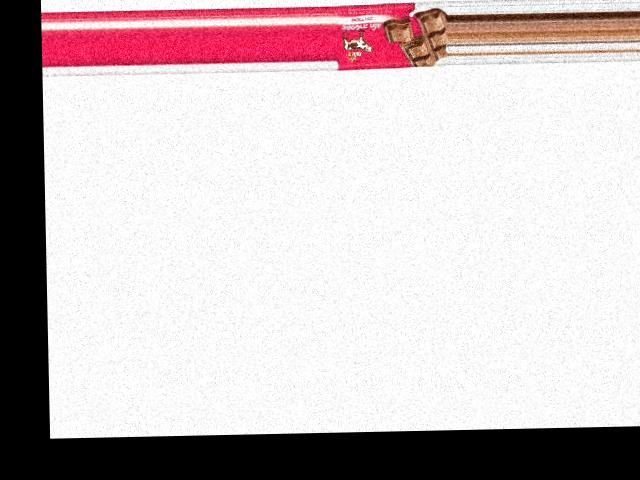chocolate: (334, 1, 447, 68)
